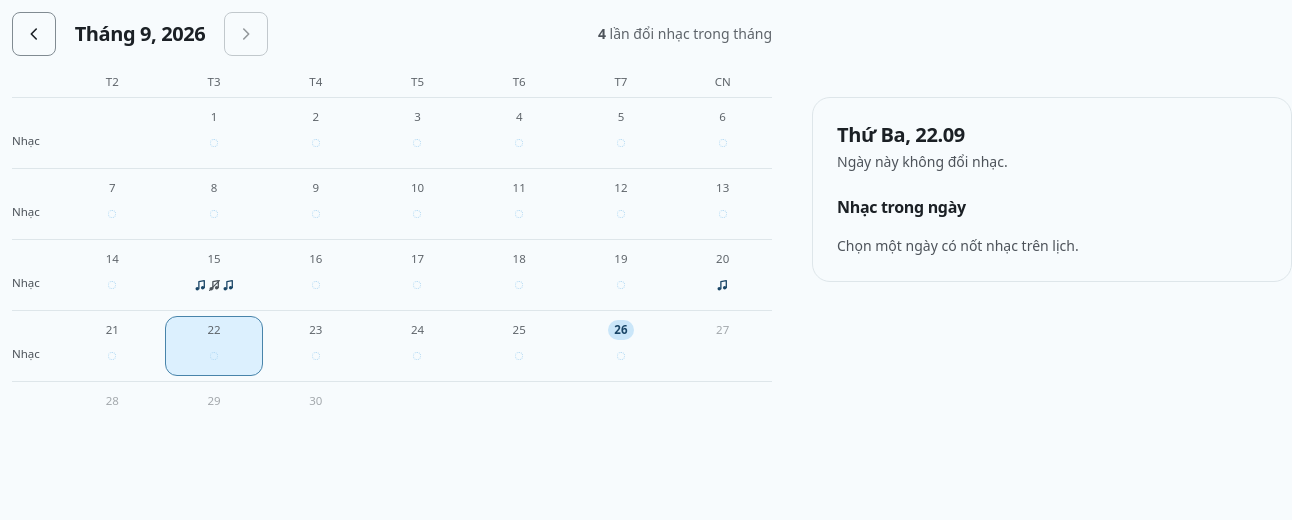
Test: LichDau: lich gon › doi thang ngay tai cho: tieu de va luoi doi, duong dan ghi ?thang, ngay dang chon va cot phai giu nguyen
Click the button named "Tháng trước": click(34, 34) [12,12,56,56]
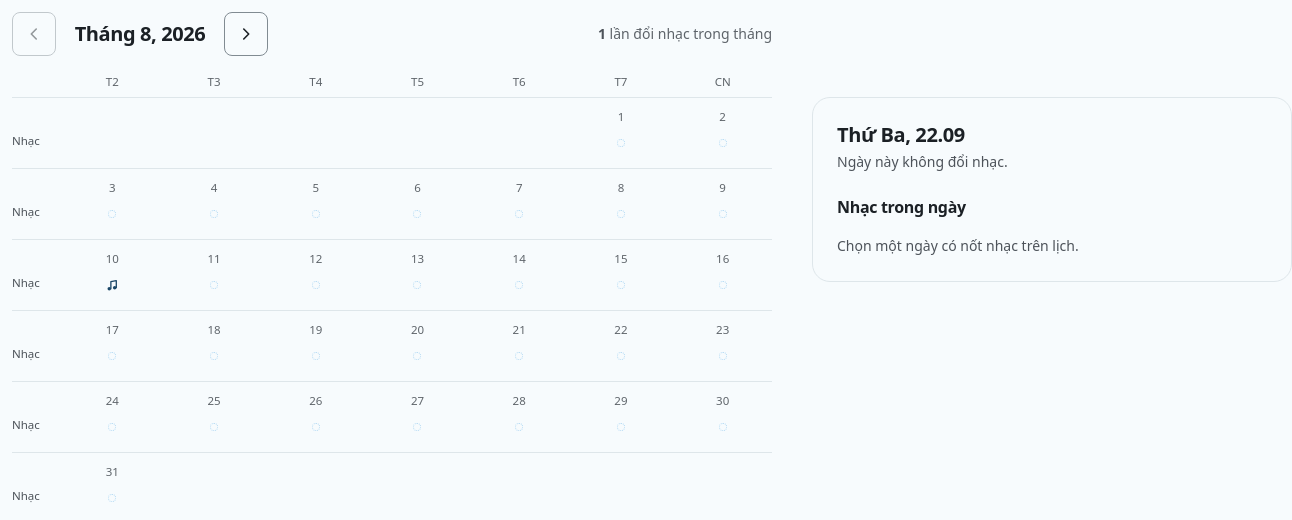
expect the heading "Thứ Ba, 22.09" is shown: met, box [837,121,965,148]
expect the heading "Tháng 8, 2026" is shown: met, box [64,21,216,47]
expect the button named "Tháng trước" is disabled: met, box [12,12,56,56]
